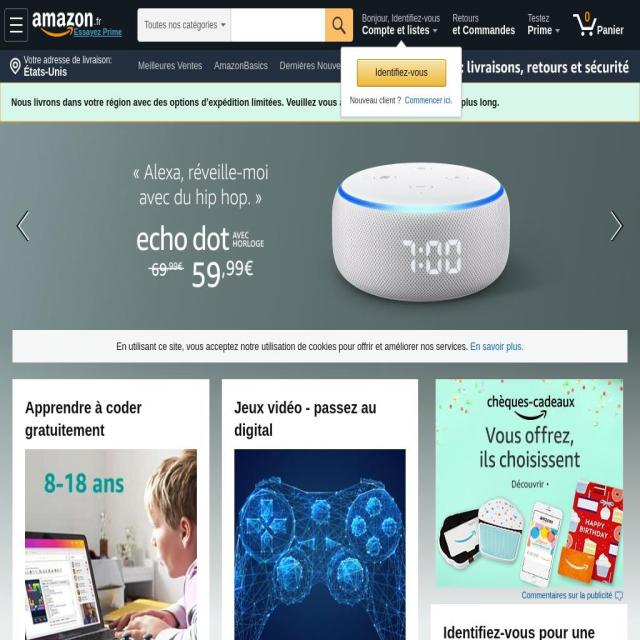button: (25, 449, 197, 640), (234, 449, 406, 640), (0, 122, 50, 330), (590, 122, 640, 330), (390, 50, 640, 82), (33, 4, 133, 46), (356, 5, 446, 47), (7, 51, 119, 83), (5, 8, 116, 38), (446, 5, 522, 47), (567, 5, 637, 47), (356, 59, 447, 87), (274, 55, 366, 77), (522, 5, 566, 47), (133, 165, 214, 187), (246, 128, 322, 150), (133, 55, 208, 77), (252, 165, 327, 187), (215, 92, 290, 113), (176, 128, 244, 150), (209, 55, 273, 77), (521, 590, 623, 602), (291, 92, 347, 113), (133, 92, 180, 113), (134, 128, 174, 150), (4, 8, 28, 42), (215, 165, 251, 187), (181, 92, 214, 113), (348, 92, 375, 113), (74, 28, 122, 36)
field: (230, 9, 326, 41), (325, 8, 354, 42)
heading: (25, 396, 197, 441), (234, 396, 406, 441), (443, 621, 616, 640)
iframe: (435, 379, 623, 588)
image: (24, 449, 197, 640), (234, 449, 406, 640), (390, 50, 640, 82), (33, 12, 93, 38), (573, 14, 598, 36), (8, 57, 22, 76), (10, 18, 22, 32), (614, 591, 623, 601)
link: (14, 204, 36, 248), (604, 204, 626, 248), (470, 340, 524, 352), (404, 95, 452, 105)
text: (12, 96, 500, 108), (116, 340, 469, 352), (357, 60, 446, 85), (144, 12, 218, 39), (452, 24, 521, 41), (24, 54, 119, 66), (362, 23, 430, 37), (362, 13, 446, 24), (522, 590, 614, 600), (24, 66, 74, 82), (349, 95, 403, 105), (597, 23, 624, 37), (452, 13, 484, 24), (528, 23, 552, 37), (527, 13, 555, 24), (332, 17, 347, 34), (94, 16, 102, 27)
